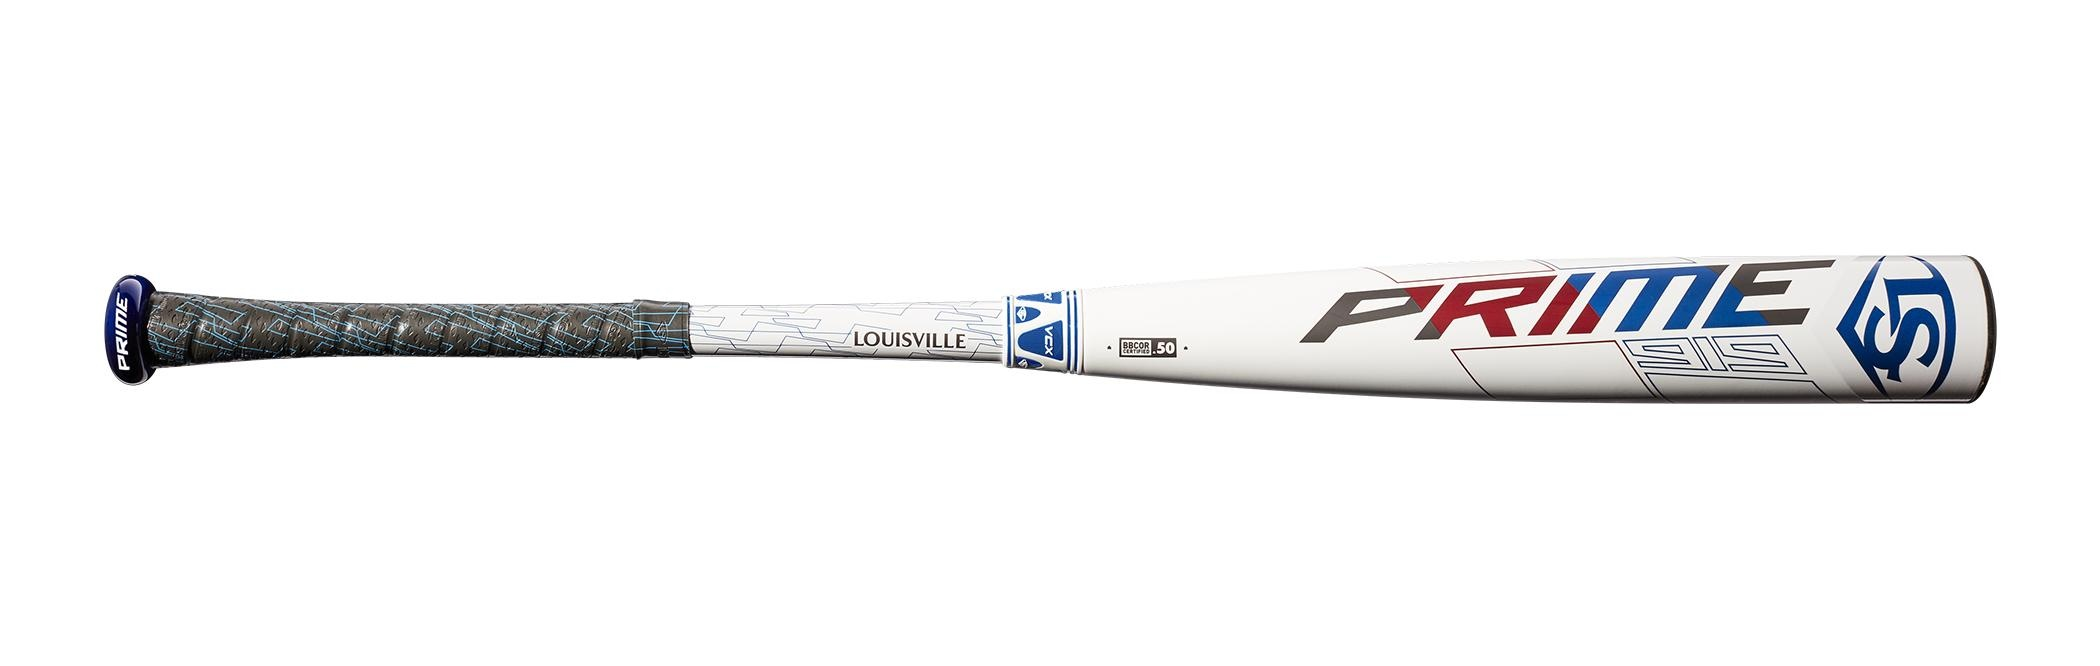bita: (100, 251, 1992, 427)
